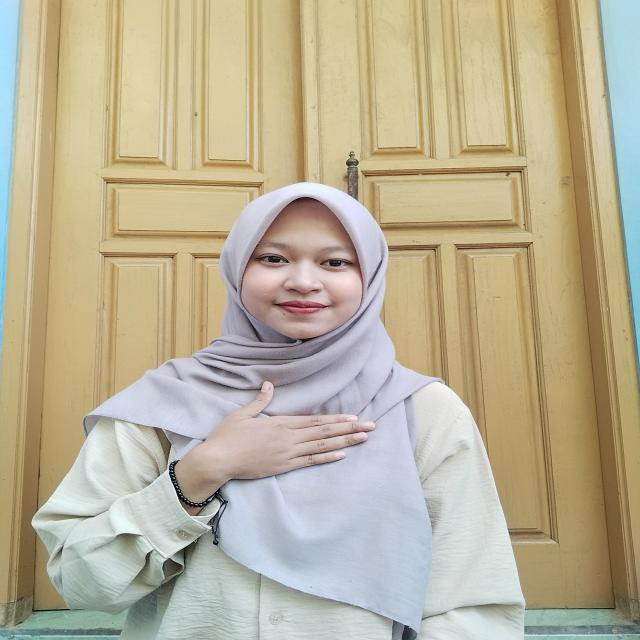tolong: (136, 381, 378, 515)
